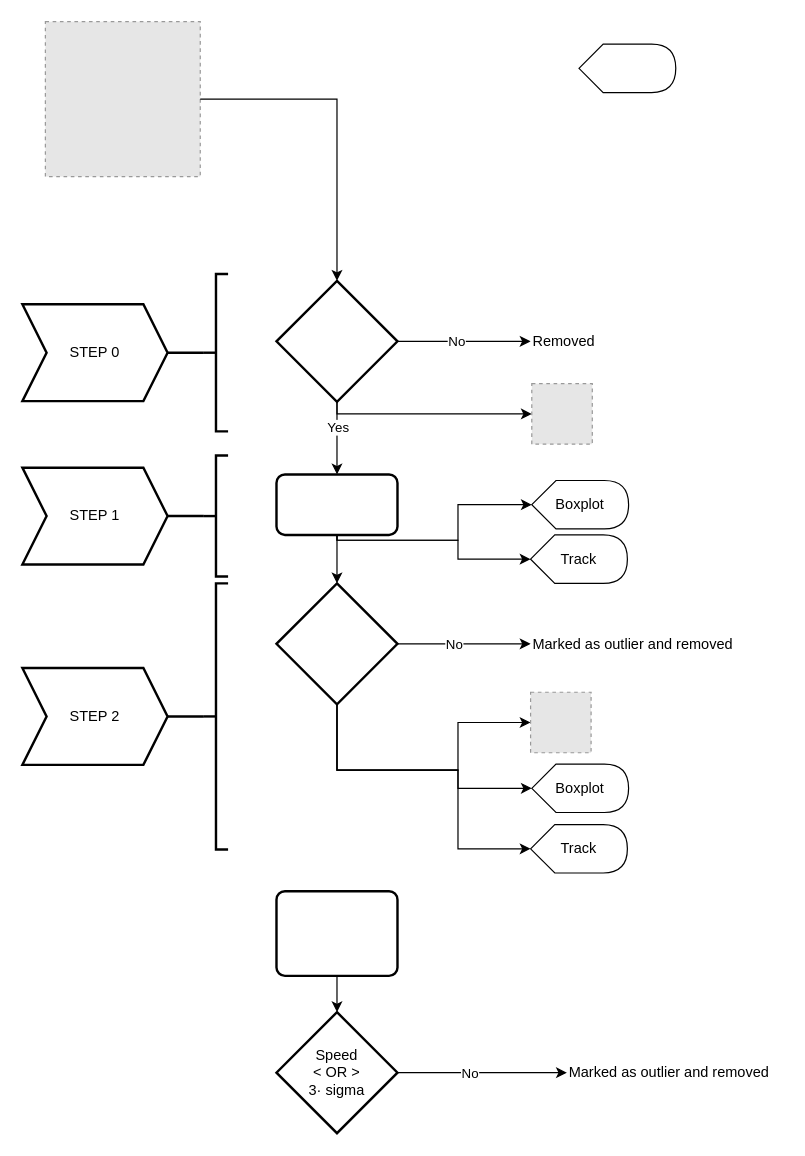
Image size: 805x1156. Some labels were removed from this diagram. Grey dashed boxes stand in for pictures. Here are the shapes that lost their labels. From the top down, the centre of each, then its label:
At point 336,340: "Depth < 5m".
At point 336,504: "Calcule 2D speed between points".
At point 336,643: "Speed < 20m/s (72km/h)".
At point 336,932: "Calcule mean speed and standard deviation".
